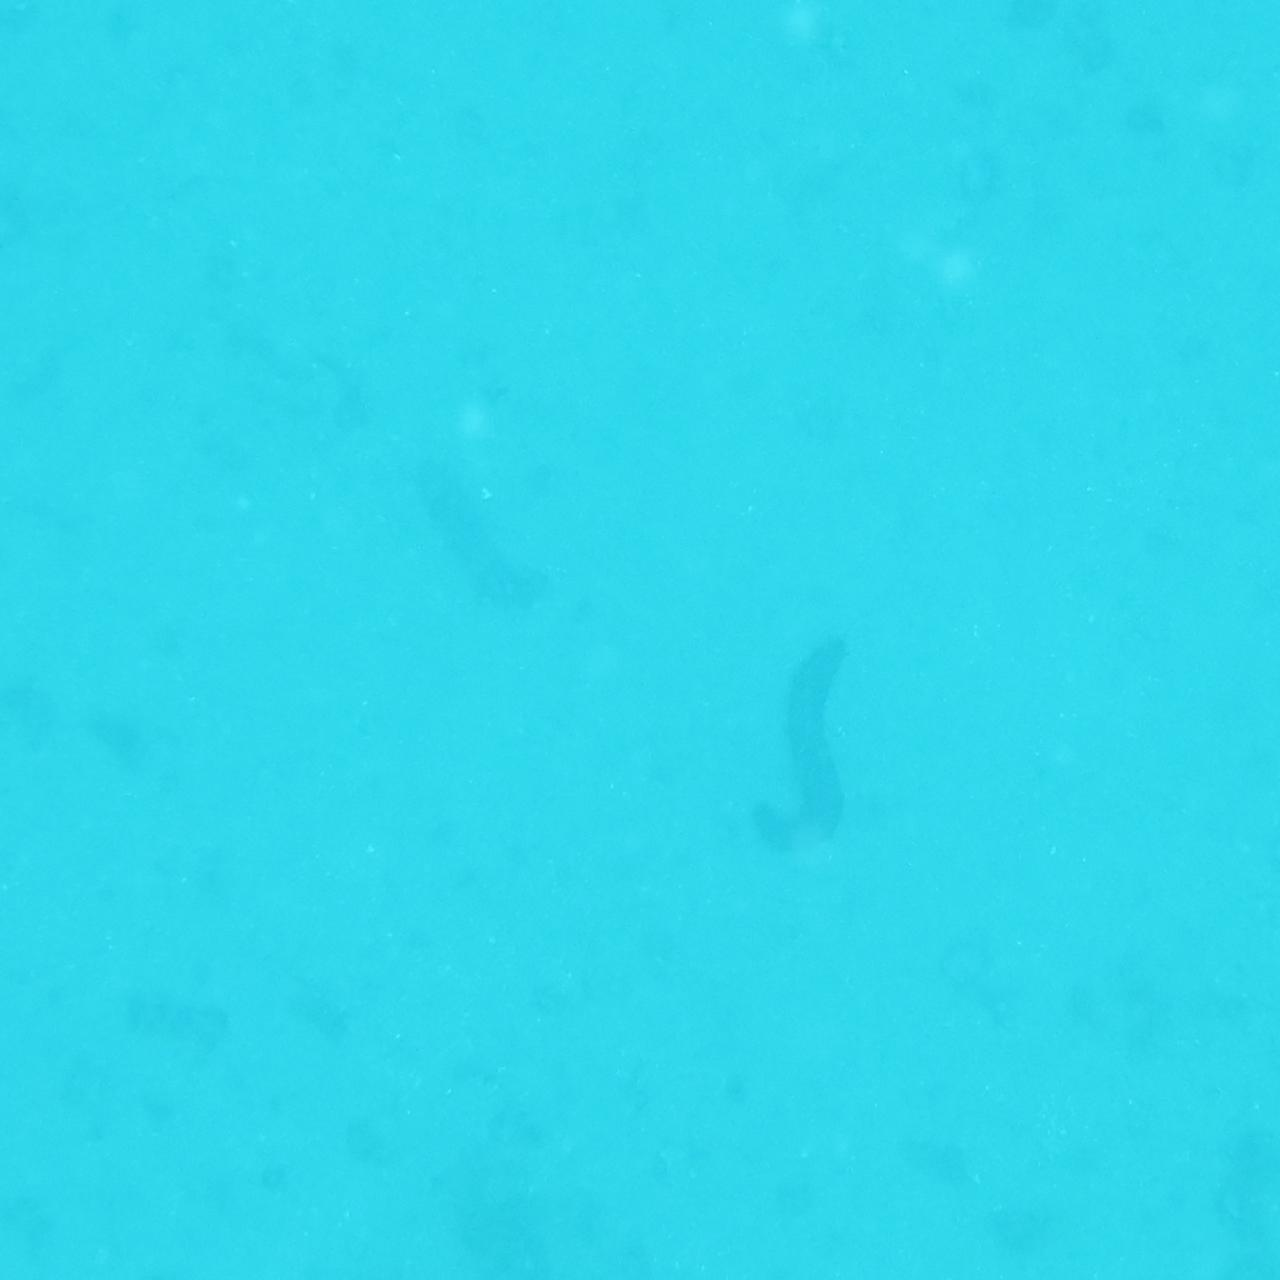Holothuria tubulosa: (728, 619, 869, 870), (421, 444, 543, 629)
